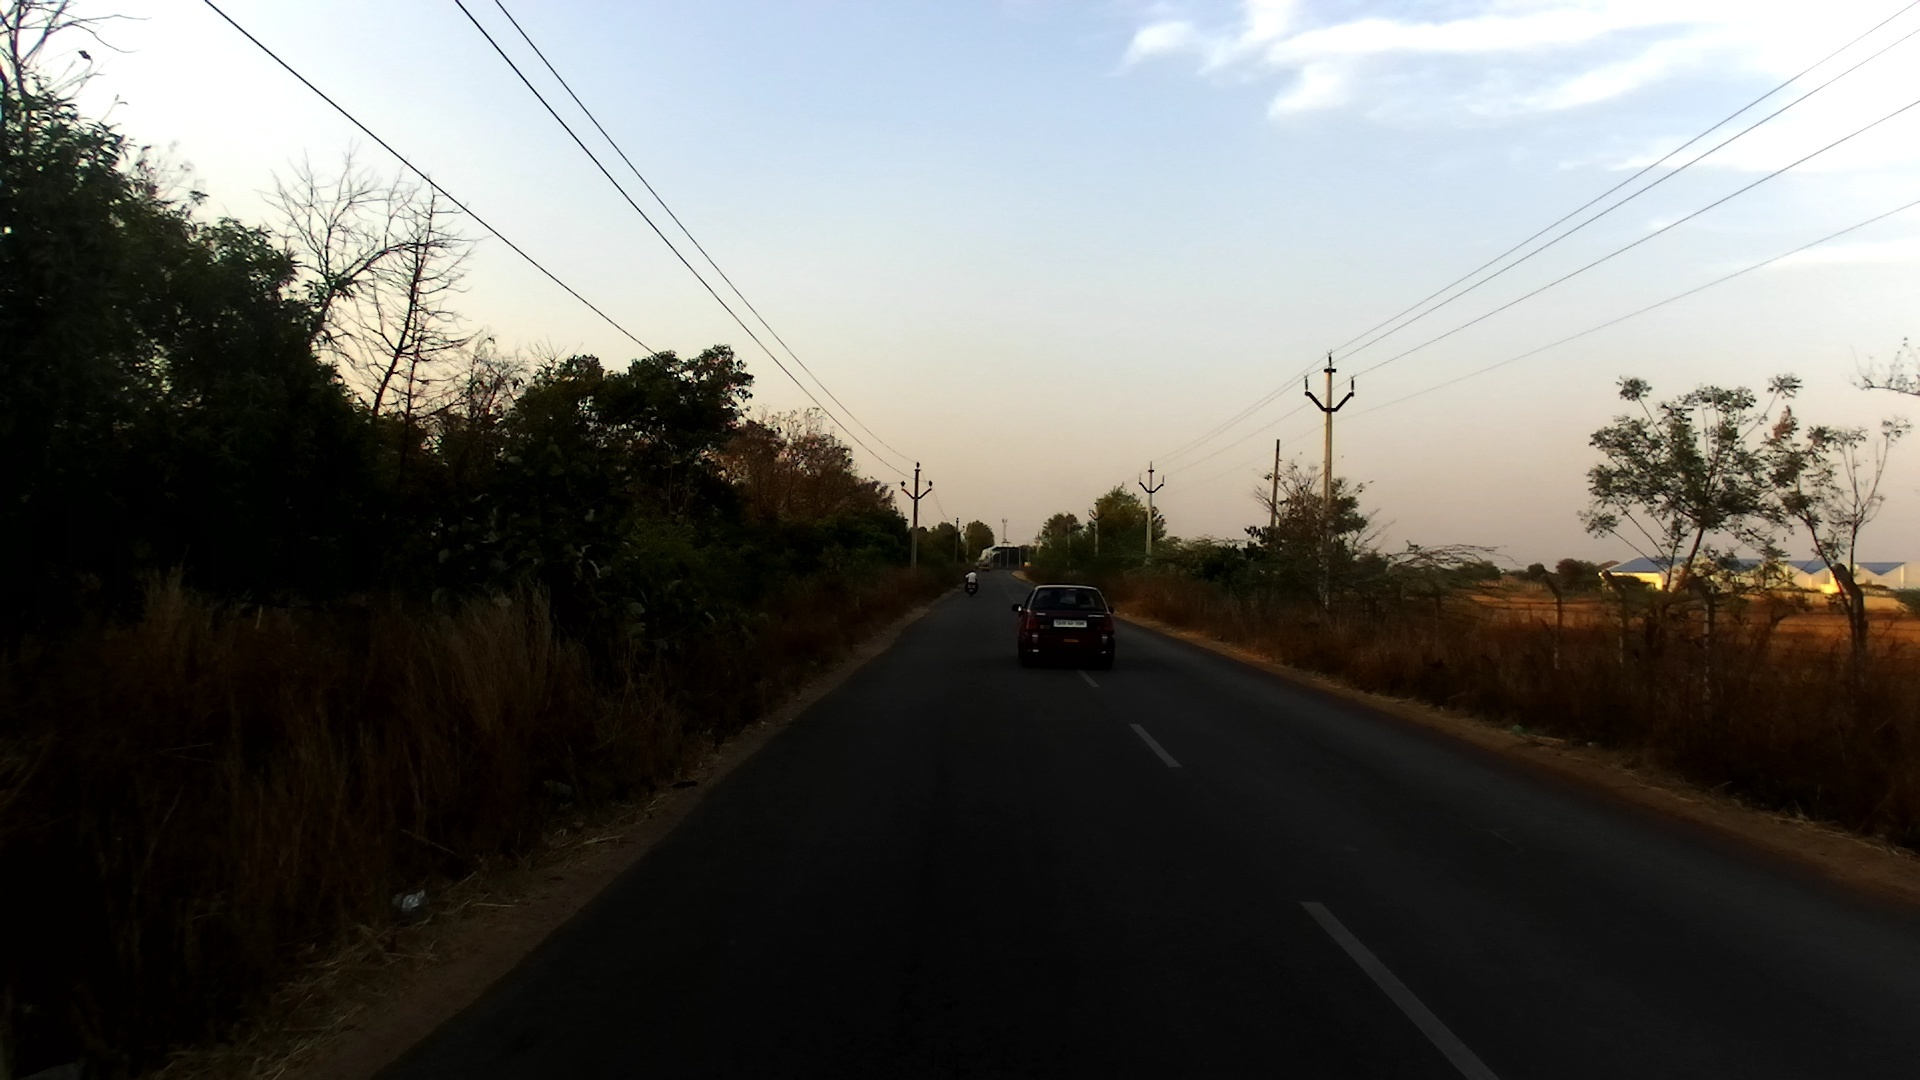car: (1009, 584, 1117, 675)
motorcycle: (966, 576, 978, 595)
rider: (966, 568, 981, 586)
vehicle fallback: (980, 560, 991, 573), (1022, 560, 1031, 571)
